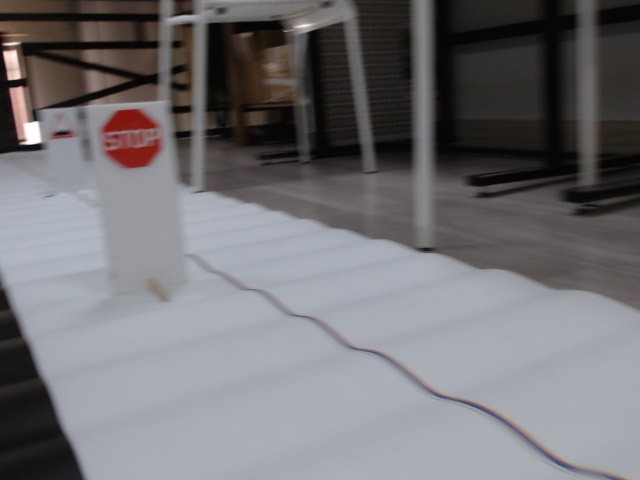Stop: (99, 109, 165, 165)
